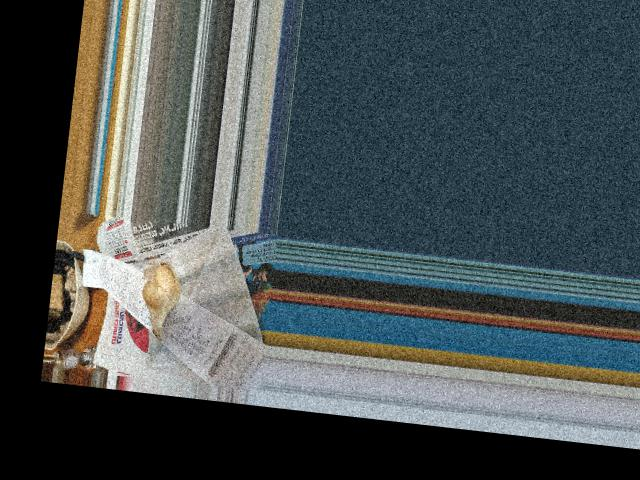onion: (143, 262, 181, 327)
